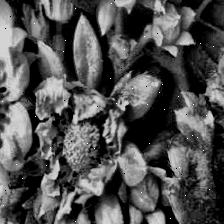Blossom Blight: (50, 97, 116, 194)
